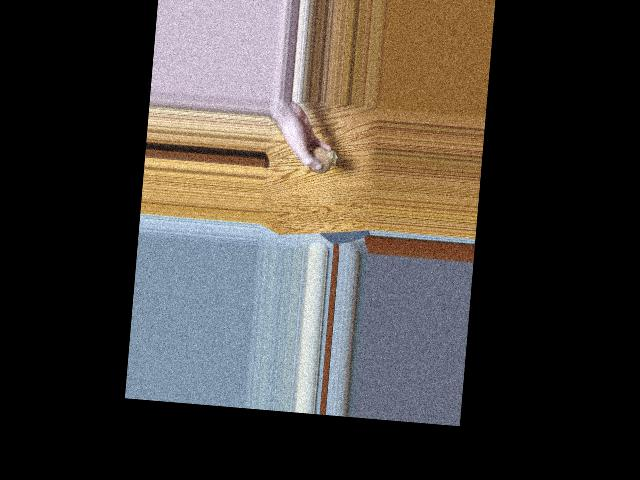onion: (308, 150, 331, 172)
